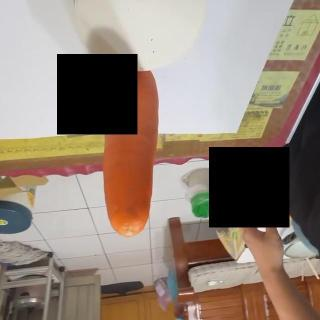carrot: (98, 63, 157, 238)
